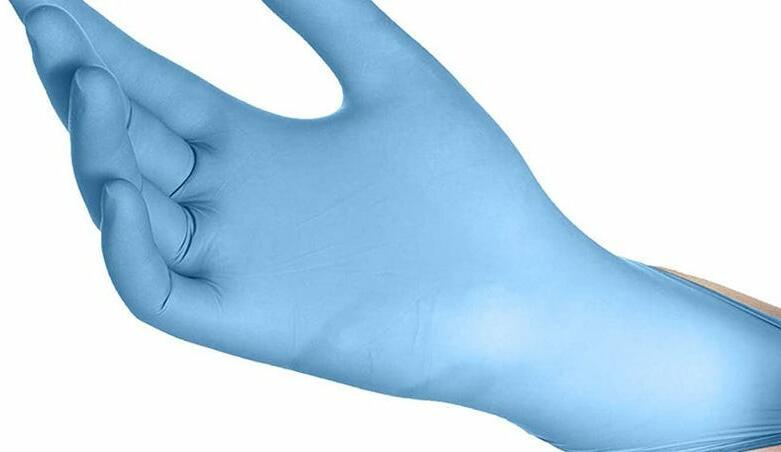gloves: (8, 0, 781, 452)
